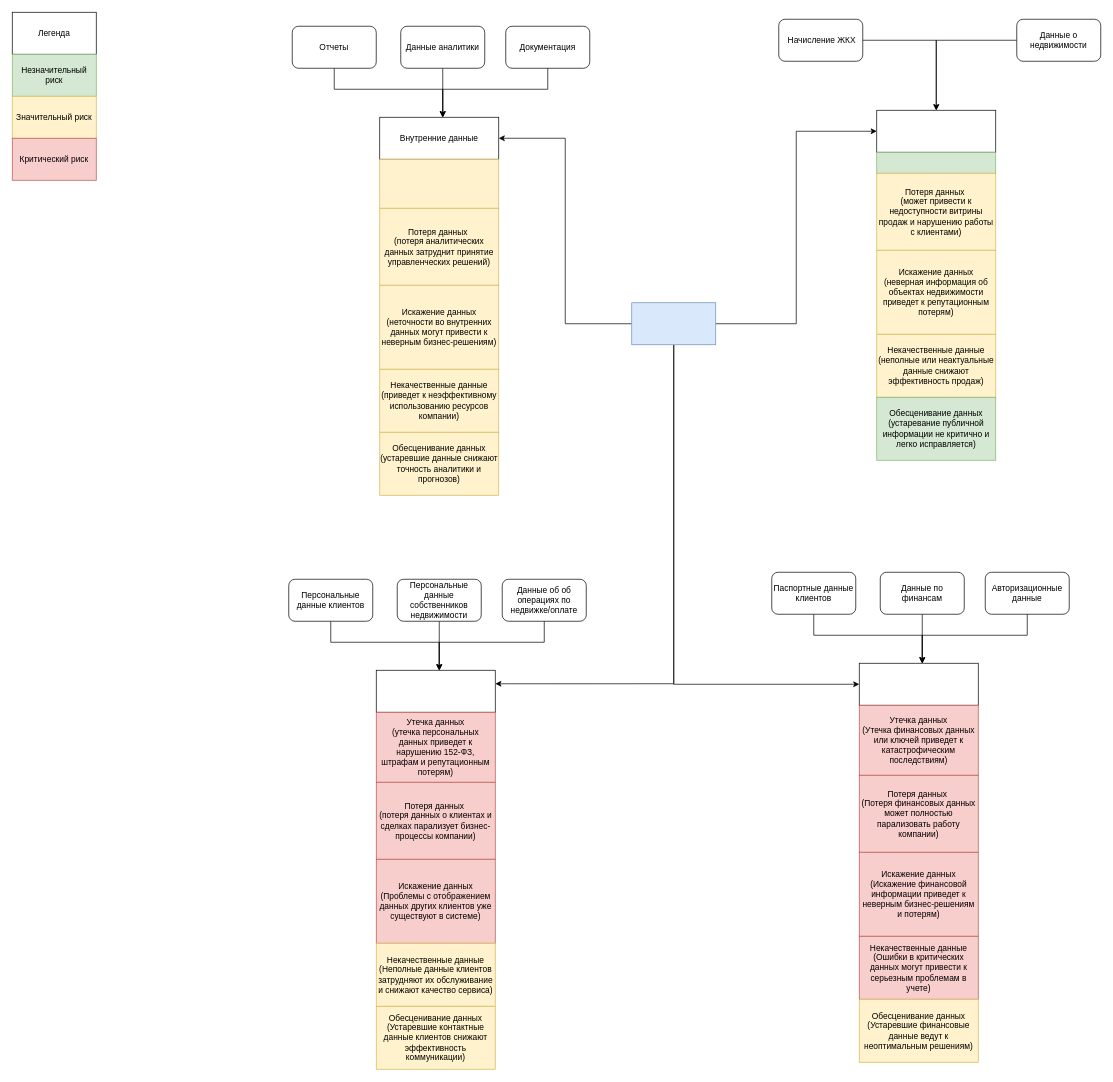
Some shapes in this 1113 by 1082 pixel diagram are drawn without their labels. The centre of each missing label's shape, as x and y in pixels:
Безопасность данных PropDevelopment: (673,323)
Конфиденциальные данные: (435,691)
Публичные данные: (936,131)
Секретные данные: (918,684)
Утечка данных (данные публичные): (936,162)
Утечка данных (может дать конкурентам ценную информацию о процессах компании): (439,183)
